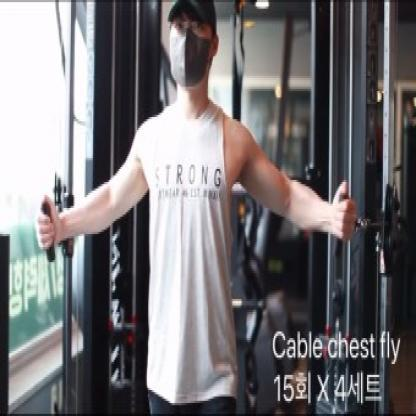chest fly machine: (28, 4, 390, 416)
